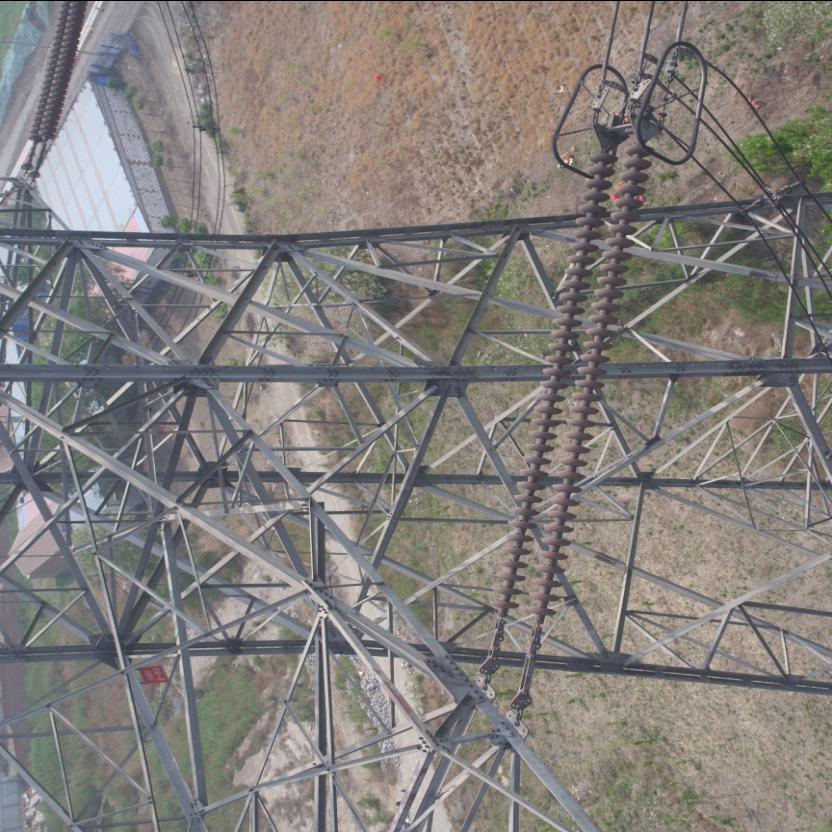insulator: (484, 131, 658, 658)
